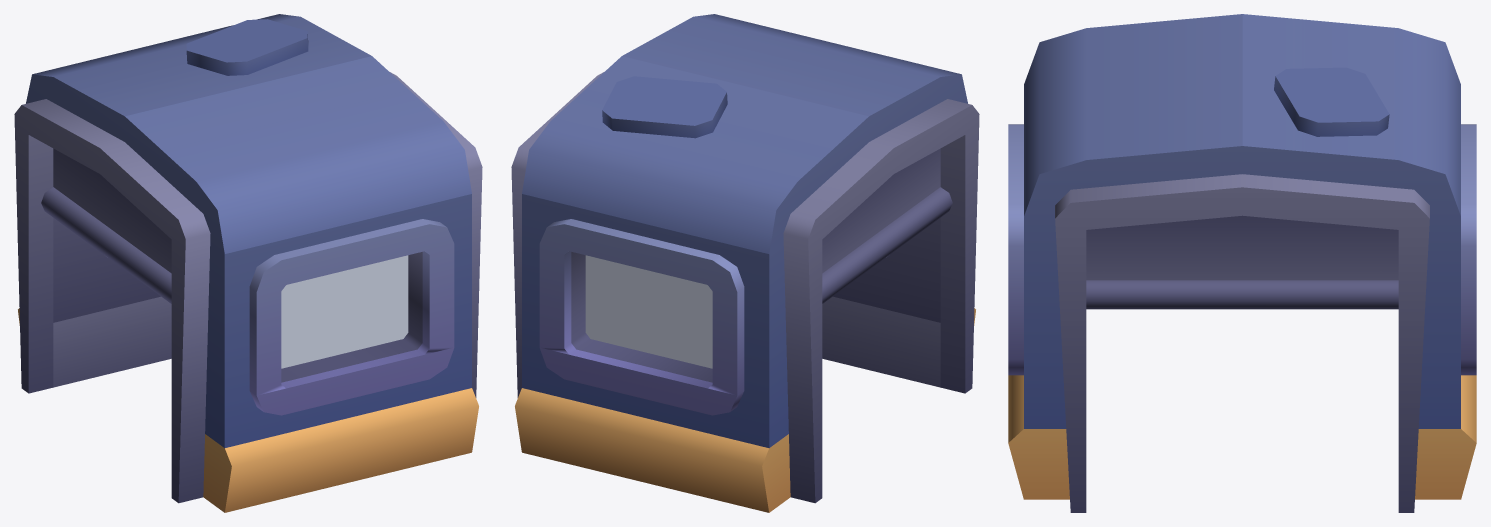
The model's file is F_machine-window.obj.
The picture shows the model from 3 angles, left to right: view 1: azimuth 30°, elevation 25°; view 2: azimuth 150°, elevation 25°; view 3: azimuth 270°, elevation 25°; orthographic projection. The views are drawn at different scales.
Visible parts, largest first — view 1: machine-window; view 2: machine-window; view 3: machine-window.
Part boxes in pixels (left/top/right/bottom): machine-window: left=14, top=14, right=482, bottom=512; machine-window: left=511, top=14, right=979, bottom=512; machine-window: left=1008, top=14, right=1476, bottom=512.
Size of the model in its own units: 1.2 by 1.29 by 1.5.
Materials: 2 (2 with a texture image).
